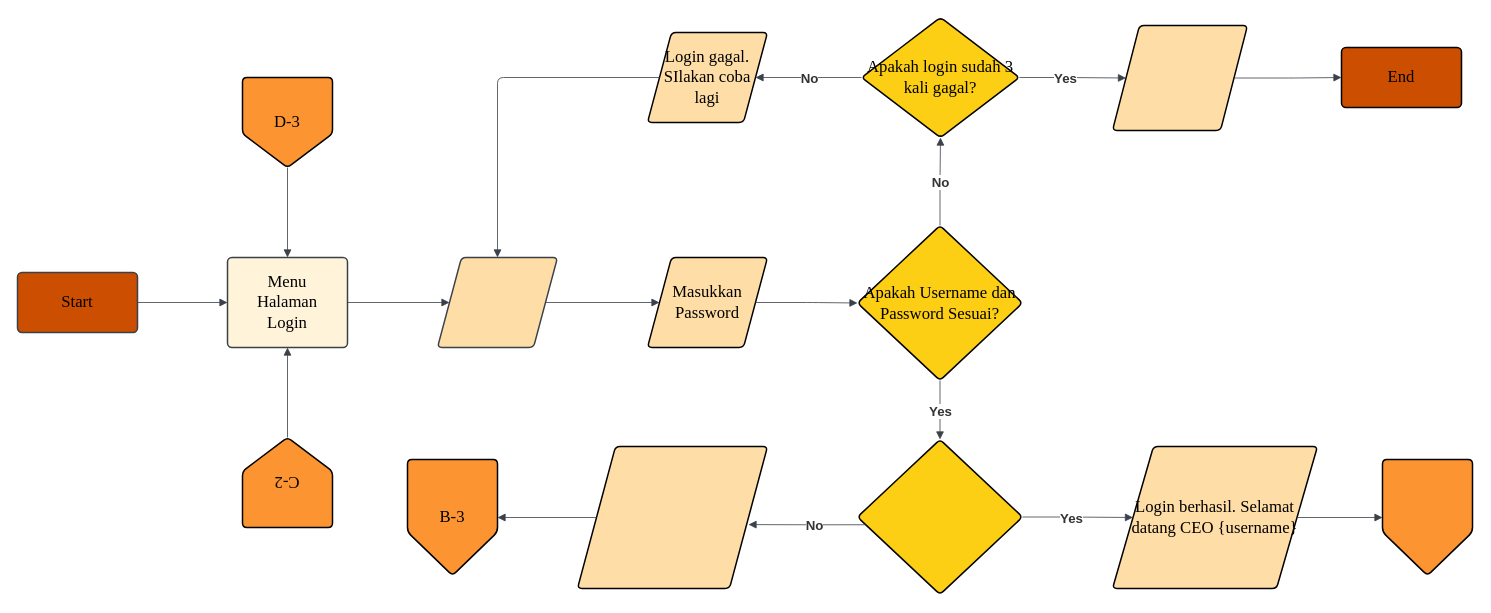
Some shapes in this 1491 by 613 pixel diagram are drawn without their labels. Here are the shapes that lost their labels. From the top down, the box of each, then its label:
(1111, 24, 1248, 131): Akses dinlokir. Silakan kembali lagi esok
(436, 256, 558, 348): Masukkan Username
(576, 445, 768, 589): Login berhasil. Selamat datang nasab ah {username}
(856, 438, 1023, 595): Apakah kamu CEO Sistem Emiten Orderbook?
(1381, 458, 1473, 576): A-2
